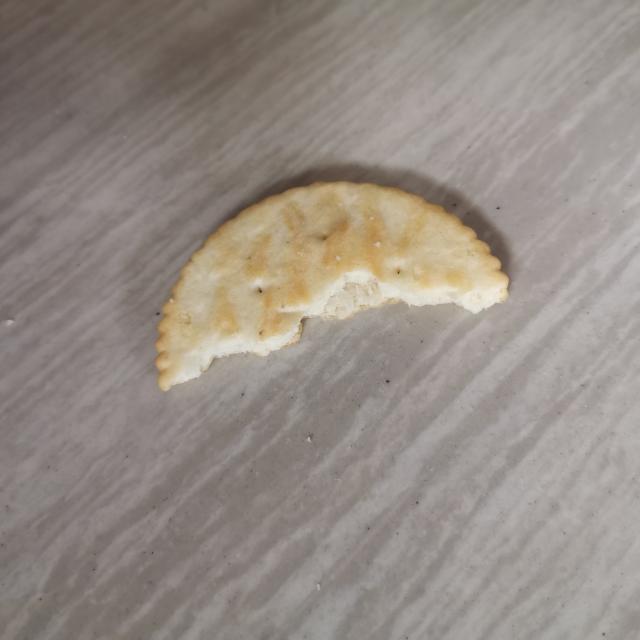Broken: (154, 179, 510, 393)
